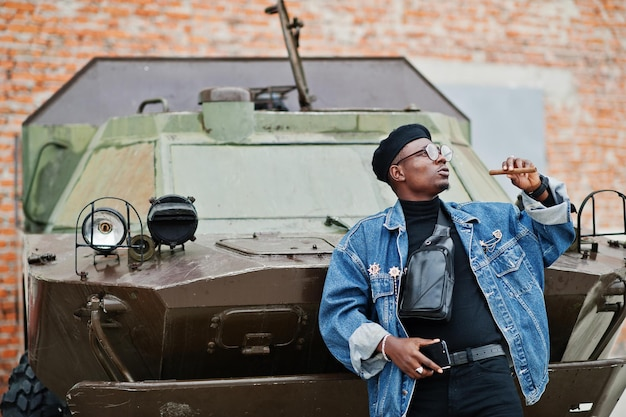cigarette: (489, 166, 539, 176)
